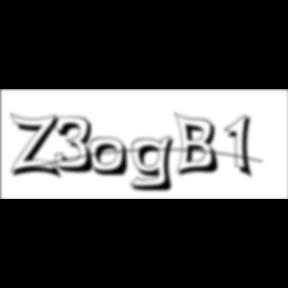1: (224, 114, 258, 182)
3: (55, 116, 101, 176)
B: (174, 111, 224, 179)
Z: (11, 112, 66, 181)
g: (130, 134, 182, 194)
o: (89, 137, 131, 179)
